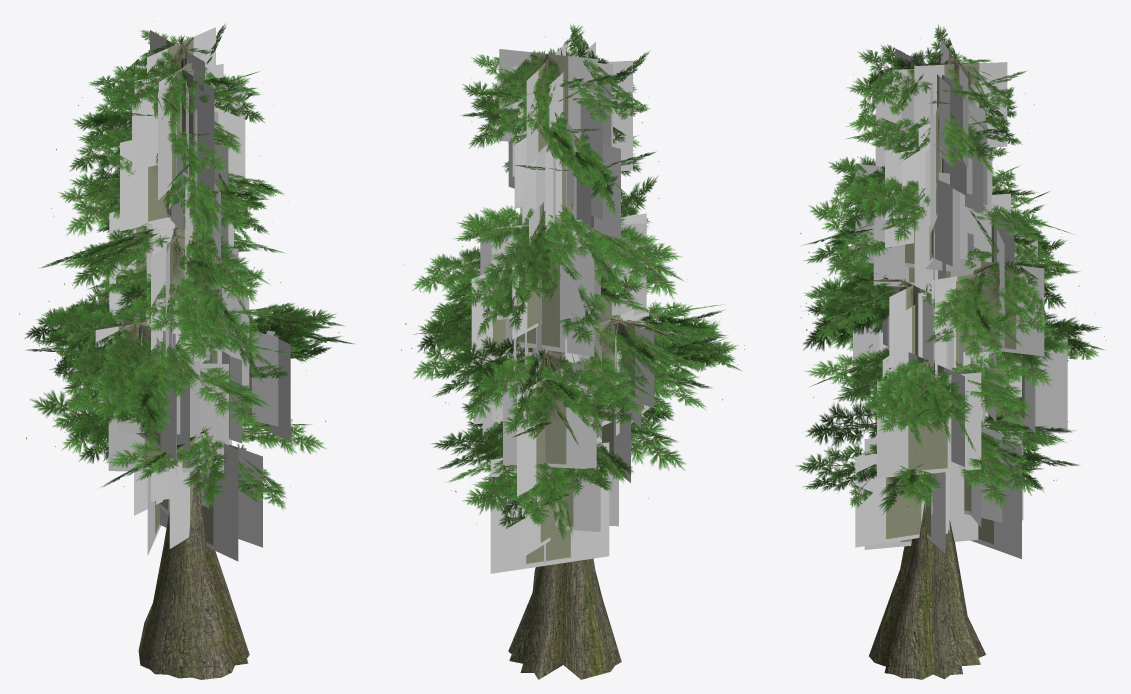
The model's file is bald_cypress_lod1.glb.
3 views of the same model, side by side, from view 1: azimuth 30°, elevation 25°; view 2: azimuth 150°, elevation 25°; view 3: azimuth 270°, elevation 25° (orthographic). The views are drawn at different scales.
Parts seen in each view (by area): view 1: cypres_chauve_cypreschauve_needles_D, cypres_chauve_CypresChauve_mousse_D, cypres_chauve_cypreschauve_bark_D; view 2: cypres_chauve_cypreschauve_needles_D, cypres_chauve_CypresChauve_mousse_D, cypres_chauve_cypreschauve_bark_D; view 3: cypres_chauve_cypreschauve_needles_D, cypres_chauve_CypresChauve_mousse_D, cypres_chauve_cypreschauve_bark_D.
Boxes of the visible parts, x1=… form: cypres_chauve_cypreschauve_needles_D: x1=19, y1=21, x2=353, y2=511; cypres_chauve_CypresChauve_mousse_D: x1=89, y1=27, x2=290, y2=561; cypres_chauve_cypreschauve_bark_D: x1=120, y1=42, x2=259, y2=679; cypres_chauve_cypreschauve_needles_D: x1=401, y1=24, x2=744, y2=542; cypres_chauve_CypresChauve_mousse_D: x1=471, y1=42, x2=657, y2=573; cypres_chauve_cypreschauve_bark_D: x1=497, y1=48, x2=668, y2=679; cypres_chauve_cypreschauve_needles_D: x1=796, y1=24, x2=1106, y2=514; cypres_chauve_CypresChauve_mousse_D: x1=853, y1=39, x2=1067, y2=558; cypres_chauve_cypreschauve_bark_D: x1=869, y1=56, x2=1007, y2=679.
Bounding box in the file's own units: 4.03 × 7.34 × 3.59.
3 materials, 3 textured.
